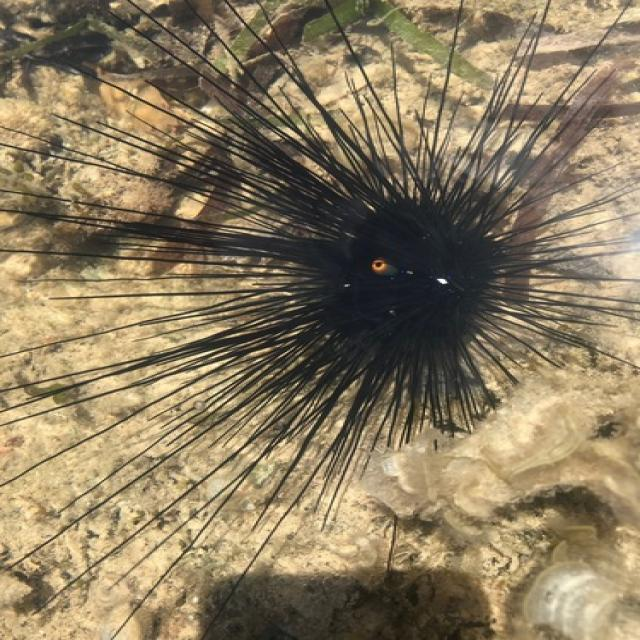Urchin: (1, 1, 636, 640)
